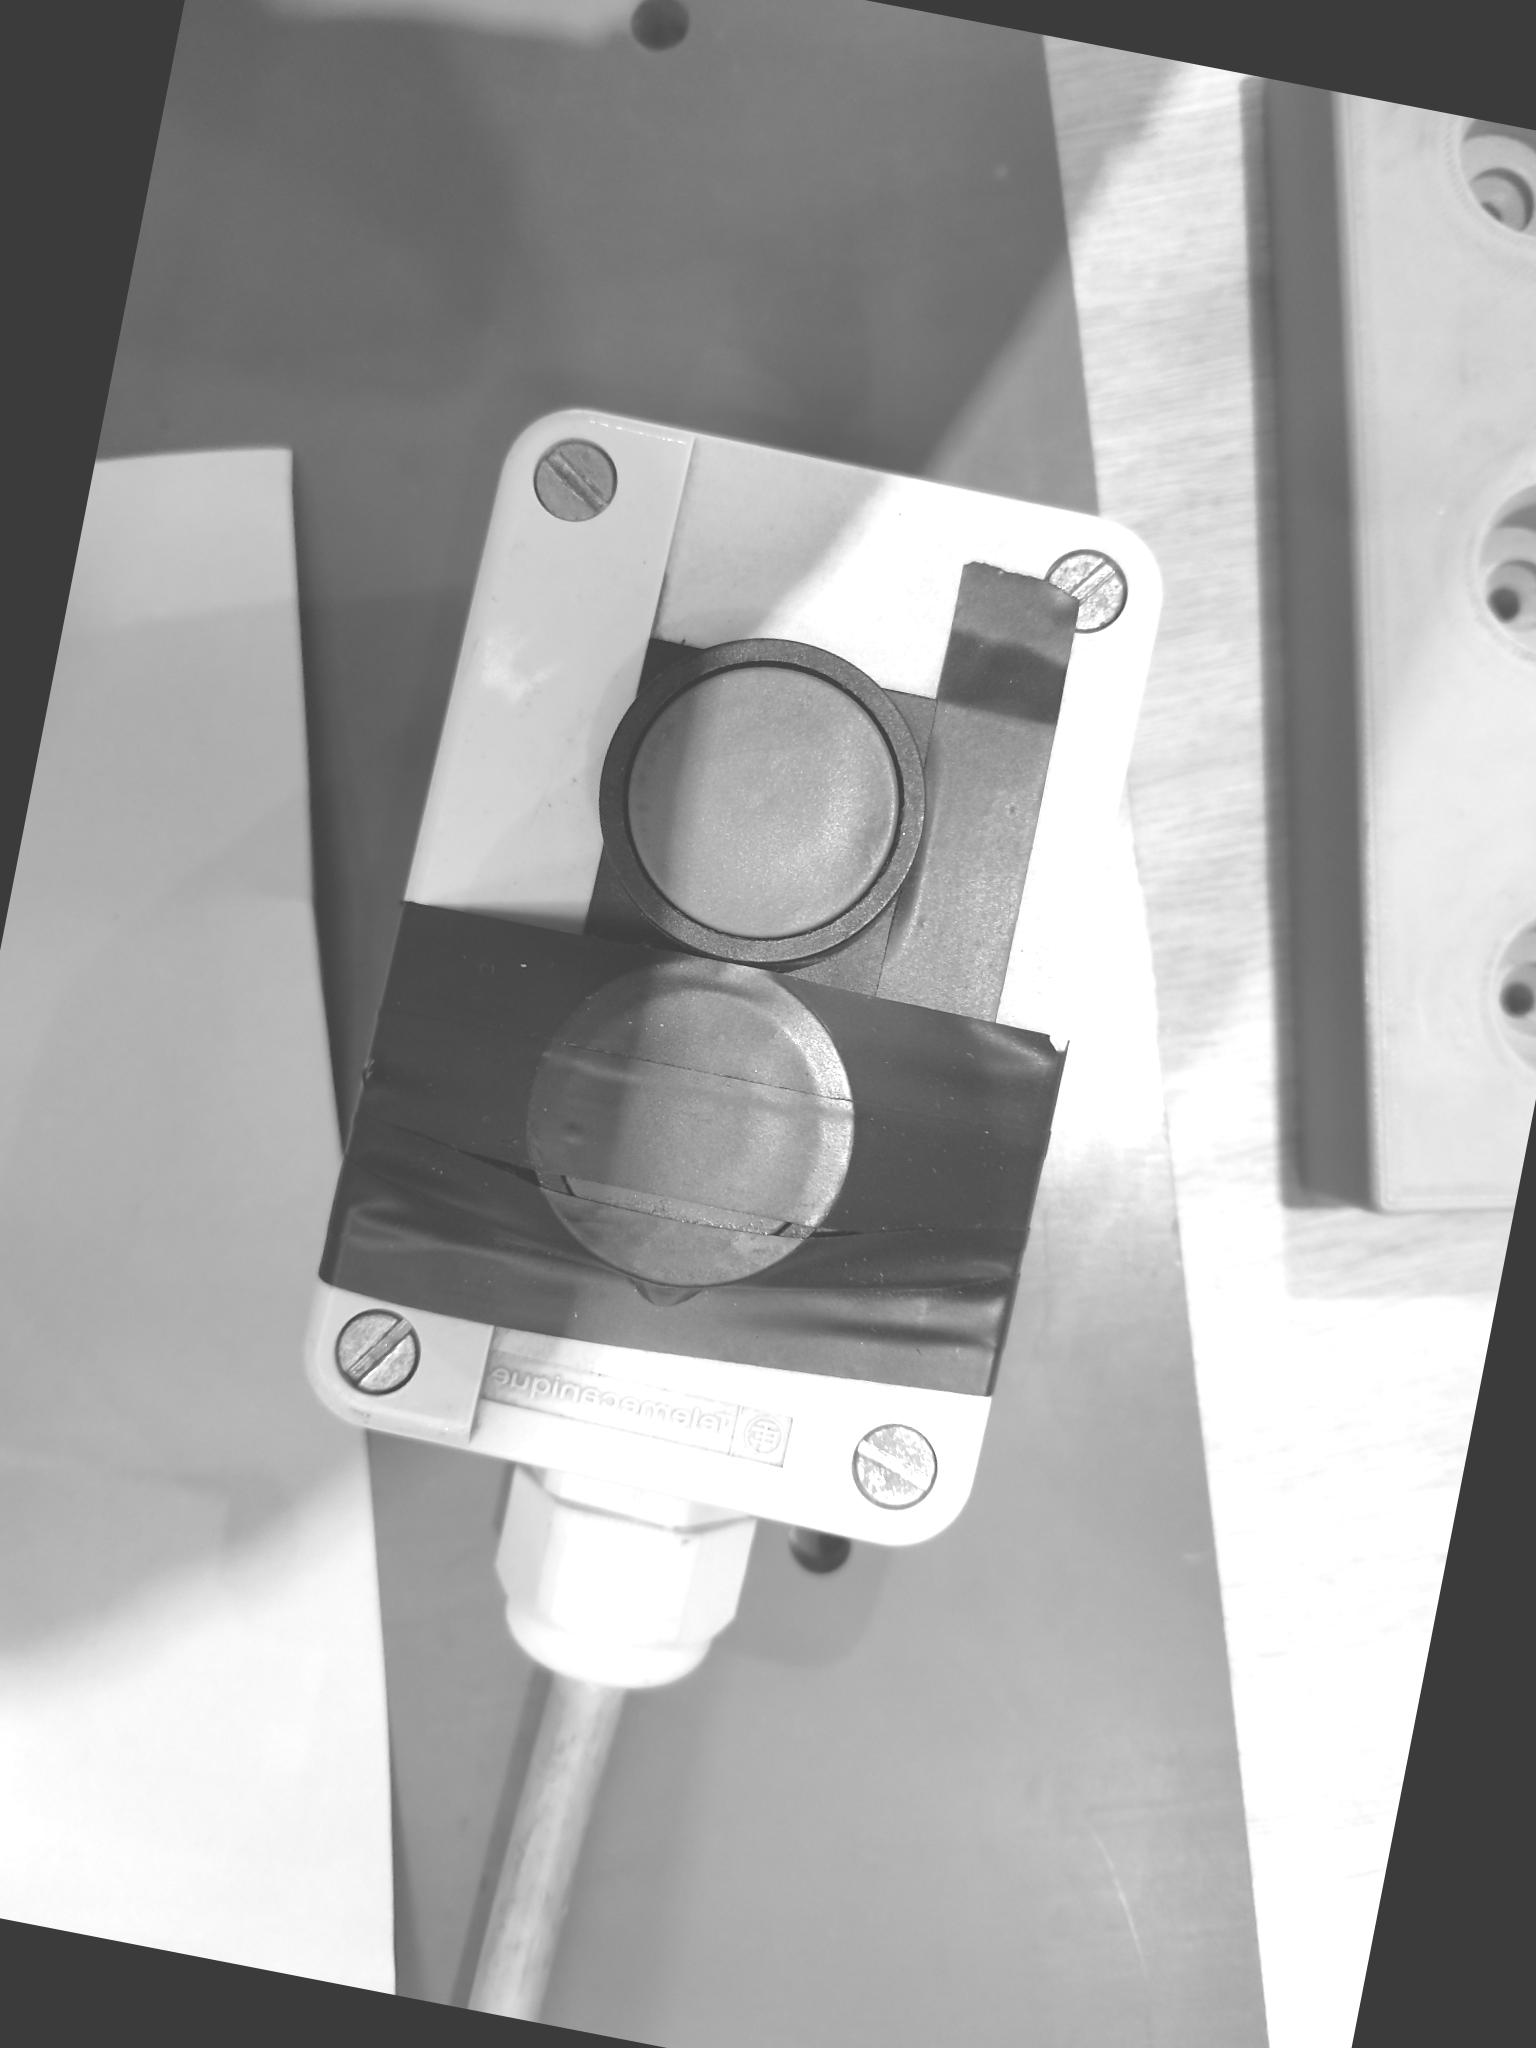screw: (1033, 531, 1150, 655), (316, 1295, 436, 1405), (841, 1413, 947, 1517), (526, 431, 631, 534)
